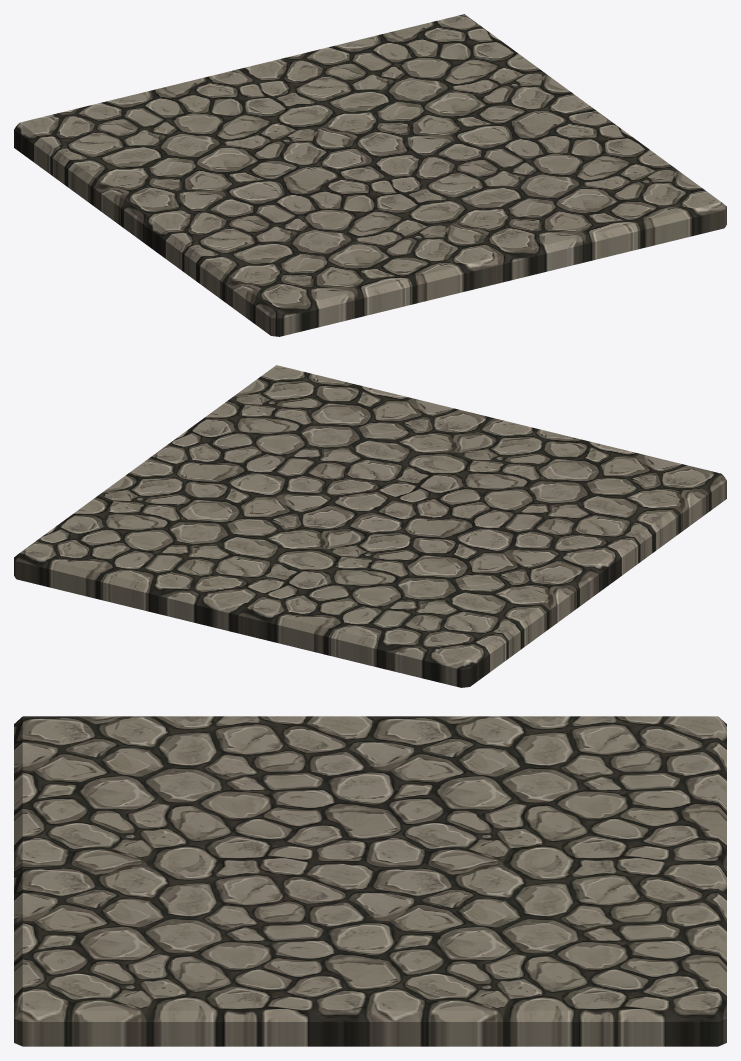
The model's file is piso_pedra.glb.
3 renders of one model, top to bottom at view 1: azimuth 30°, elevation 25°; view 2: azimuth 150°, elevation 25°; view 3: azimuth 270°, elevation 25°, orthographic. The views are drawn at different scales.
Parts seen in each view (by area): view 1: piso_pedra; view 2: piso_pedra; view 3: piso_pedra.
Boxes of the visible parts, left/top/right/bottom form: piso_pedra: left=14, top=14, right=726, bottom=336; piso_pedra: left=14, top=365, right=726, bottom=687; piso_pedra: left=14, top=716, right=726, bottom=1046.
Bounding box in the file's own units: 1 × 0.05 × 1.
Materials: 1 (1 with a texture image).
